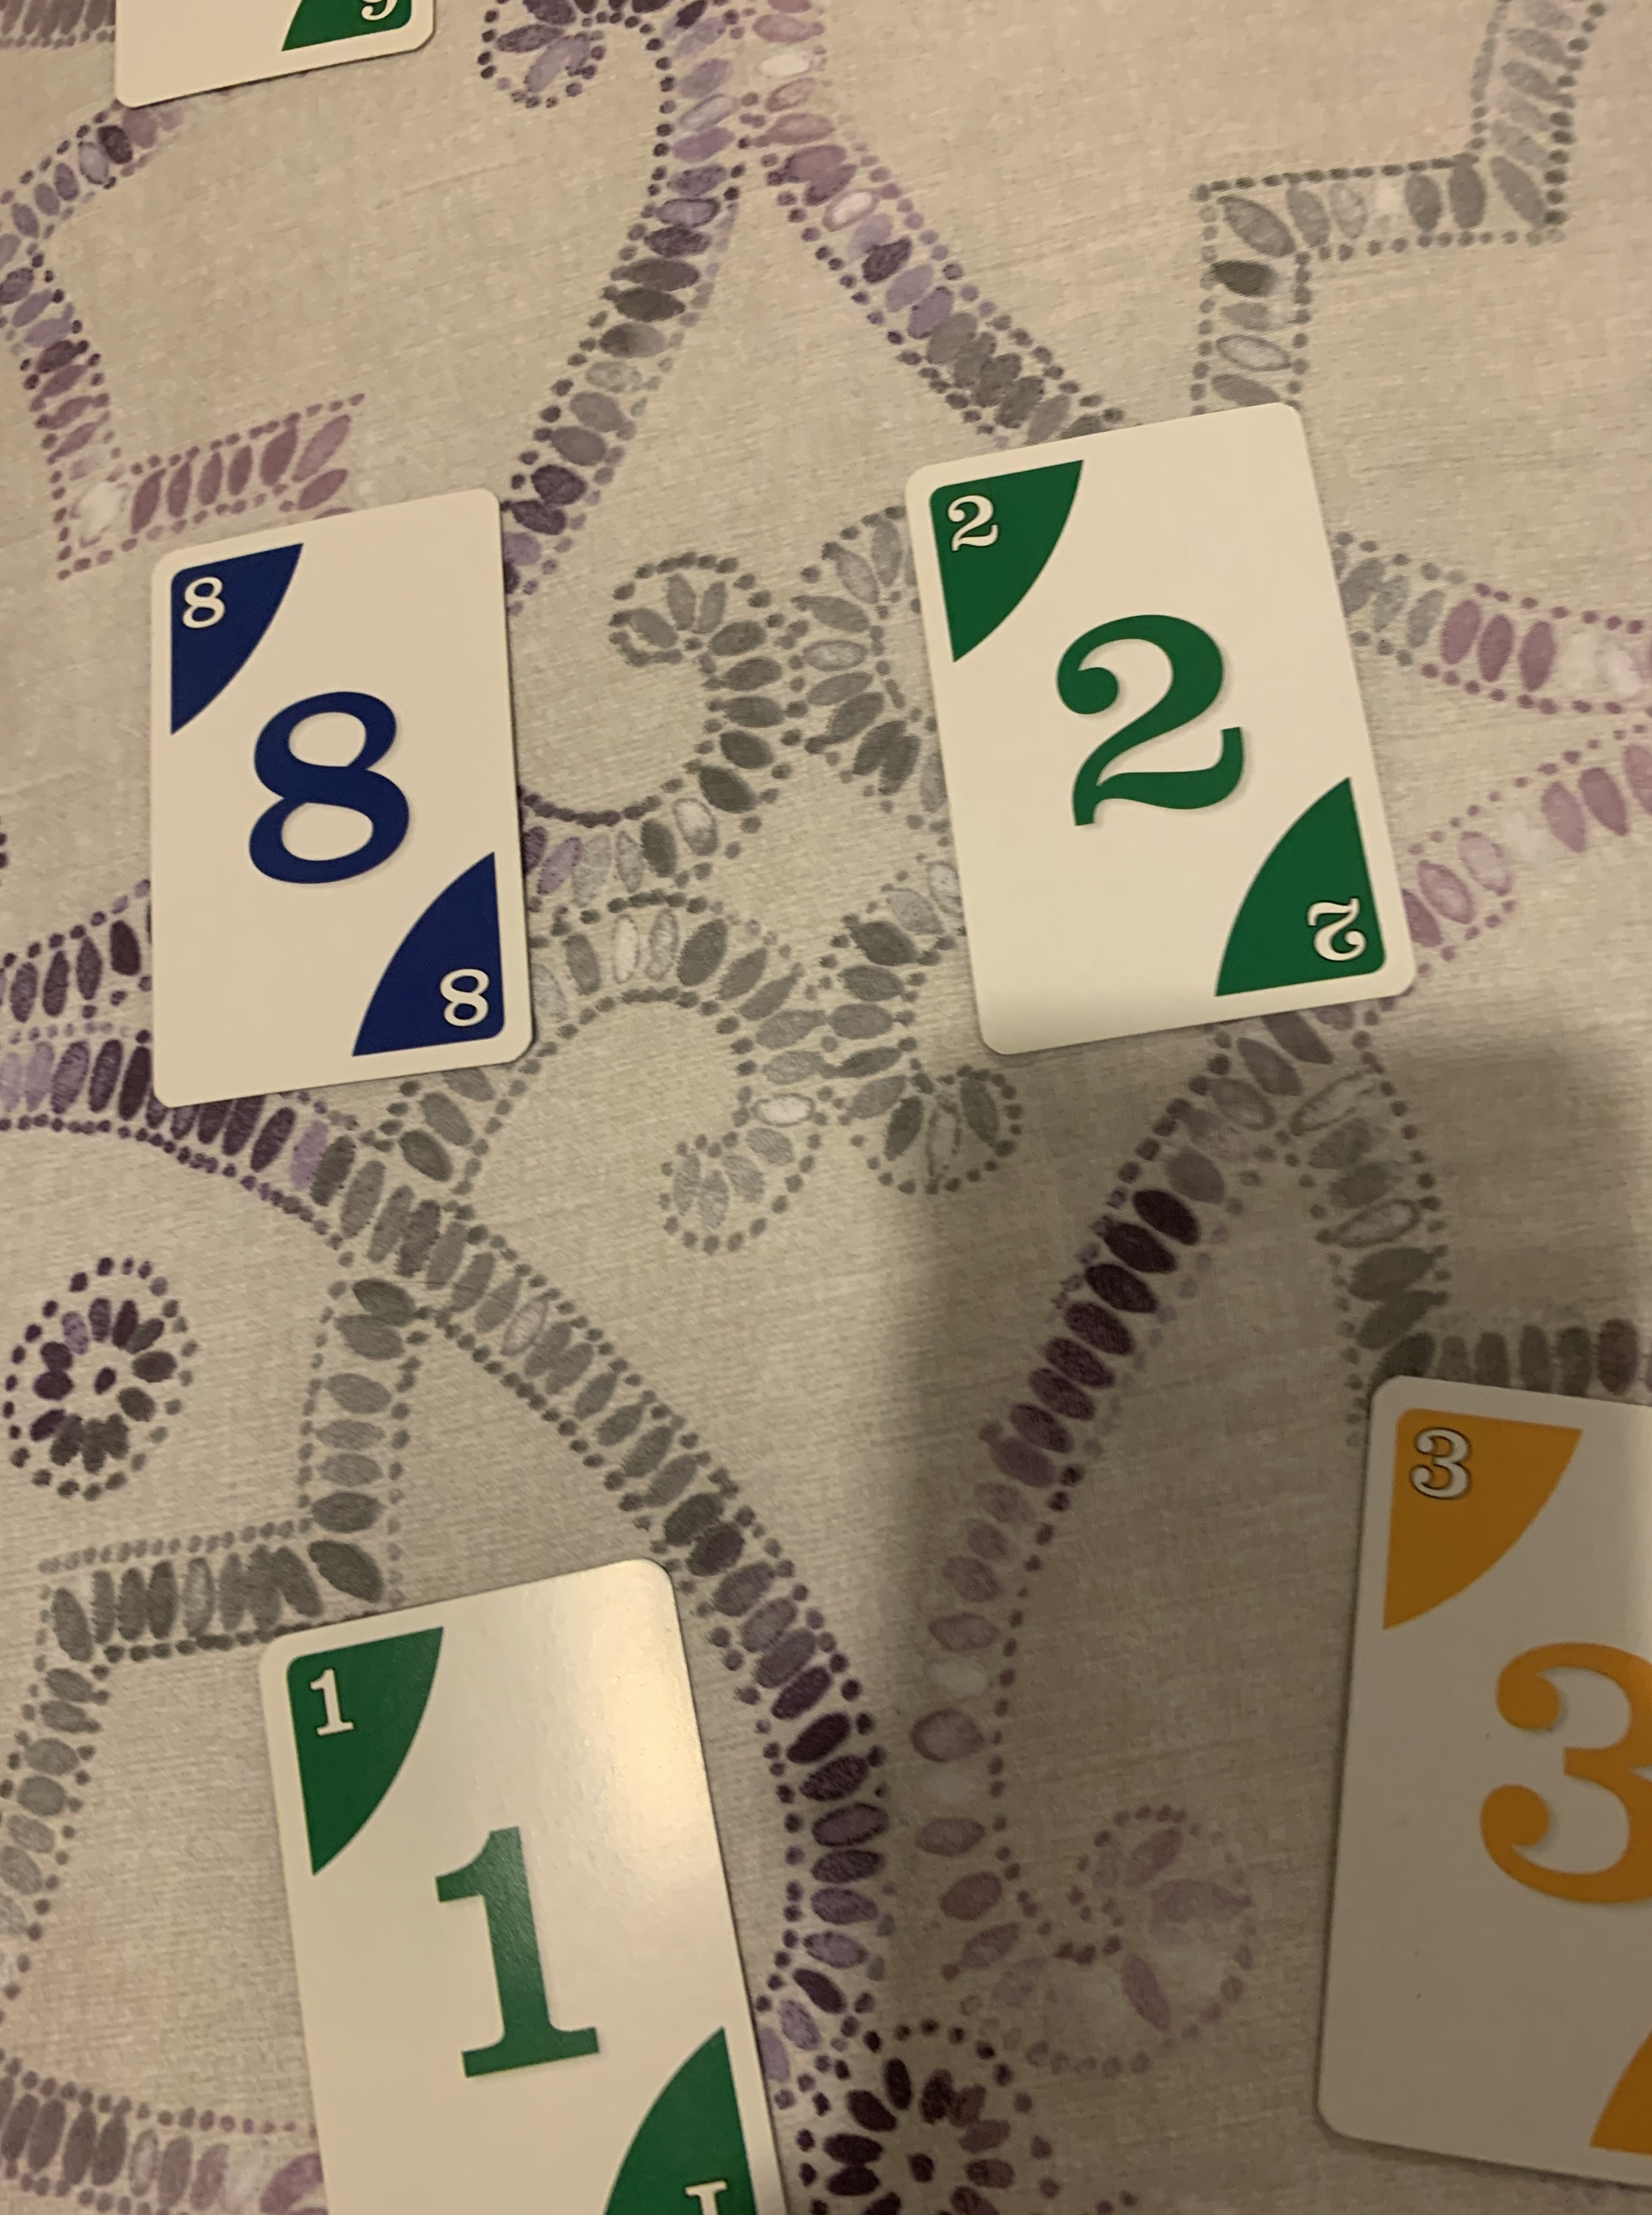eight: (146, 490, 534, 1102)
one: (257, 1550, 809, 2215)
three: (1310, 1375, 1652, 2185)
two: (901, 398, 1418, 1062)
